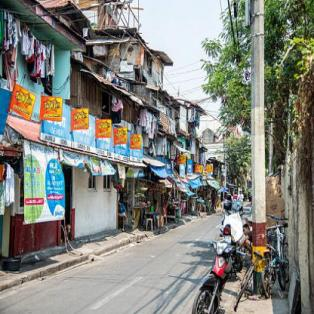Motocicleta: (187, 237, 249, 313)
